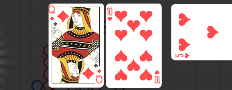10H: (107, 7, 114, 23)
5H: (175, 52, 192, 59)
